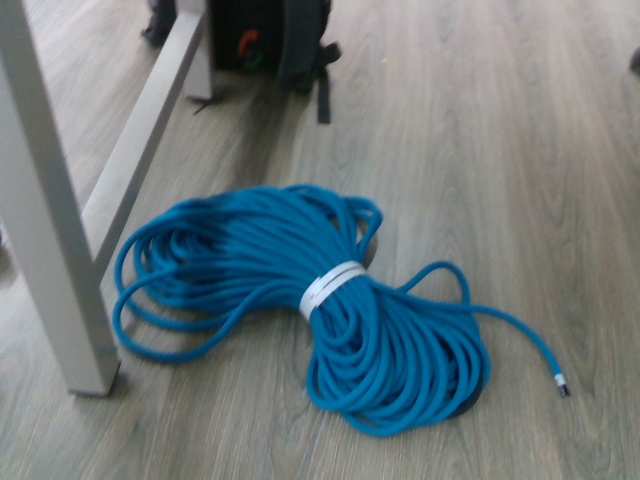rope: (105, 174, 595, 439)
